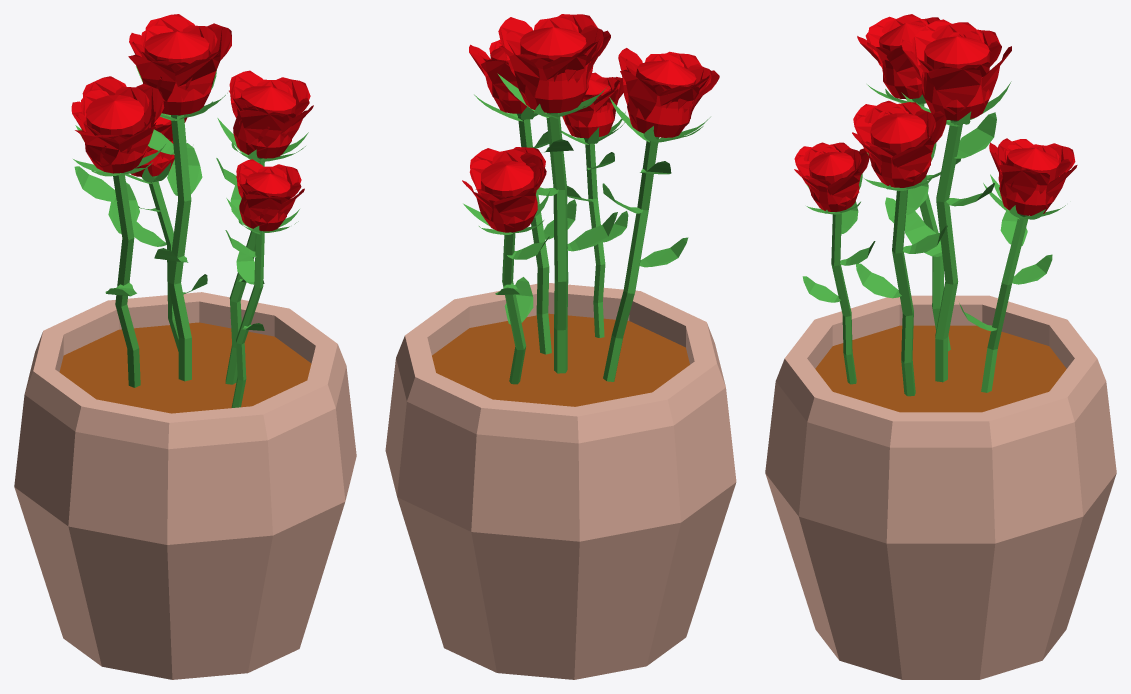
File: rose.fbx
The picture shows the model from 3 angles, left to right: view 1: azimuth 30°, elevation 25°; view 2: azimuth 150°, elevation 25°; view 3: azimuth 270°, elevation 25°; orthographic projection. The views are drawn at different scales.
Visible parts, largest first — view 1: Pot, Rose, Rose.003, Rose.001, Rose.004, Rose.002; view 2: Pot, Rose, Rose.003, Rose.002, Rose.004, Rose.001; view 3: Pot, Rose, Rose.001, Rose.002, Rose.004, Rose.003.
Part boxes in pixels (bbox=[...]): Pot: bbox=[14, 292, 356, 679]; Rose: bbox=[128, 14, 231, 381]; Rose.003: bbox=[71, 76, 165, 387]; Rose.001: bbox=[216, 70, 313, 384]; Rose.004: bbox=[225, 159, 304, 407]; Rose.002: bbox=[125, 116, 207, 351]; Pot: bbox=[385, 283, 736, 679]; Rose: bbox=[497, 14, 617, 373]; Rose.003: bbox=[602, 48, 719, 381]; Rose.002: bbox=[462, 147, 550, 384]; Rose.004: bbox=[561, 72, 628, 337]; Rose.001: bbox=[469, 40, 576, 354]; Pot: bbox=[765, 295, 1116, 679]; Rose: bbox=[901, 19, 1011, 382]; Rose.001: bbox=[852, 100, 947, 396]; Rose.002: bbox=[959, 138, 1077, 392]; Rose.004: bbox=[794, 142, 875, 384]; Rose.003: bbox=[857, 14, 960, 351].
Bounding box in the file's own units: 267 × 521 × 280.
